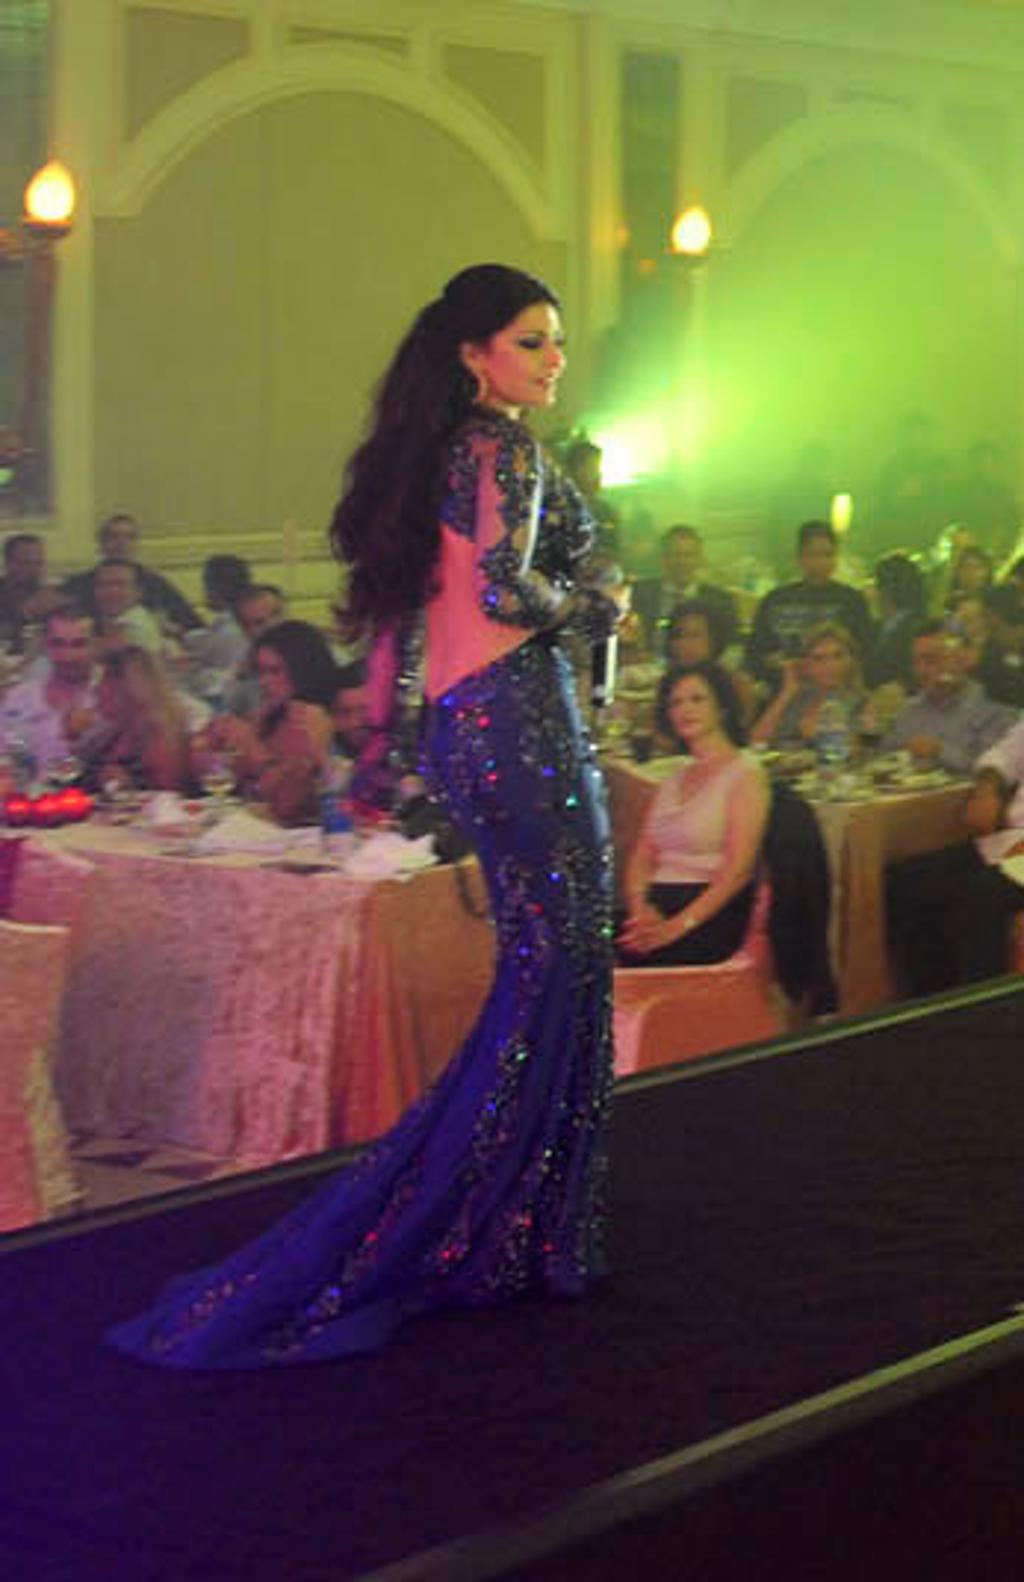face: (480, 314, 564, 404), (49, 625, 91, 679), (257, 652, 298, 708), (669, 683, 713, 735), (341, 692, 380, 746), (918, 642, 961, 692), (672, 623, 711, 670), (812, 640, 850, 684), (95, 573, 134, 614), (247, 605, 283, 649), (95, 668, 124, 718), (10, 551, 44, 590), (802, 542, 833, 582), (669, 545, 698, 583), (576, 450, 601, 492), (104, 524, 131, 560), (993, 616, 1020, 653), (959, 557, 983, 591)
